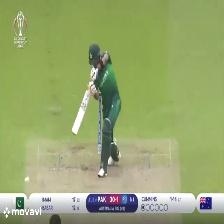ball: (24, 173, 32, 187)
batsman: (71, 43, 124, 177)
